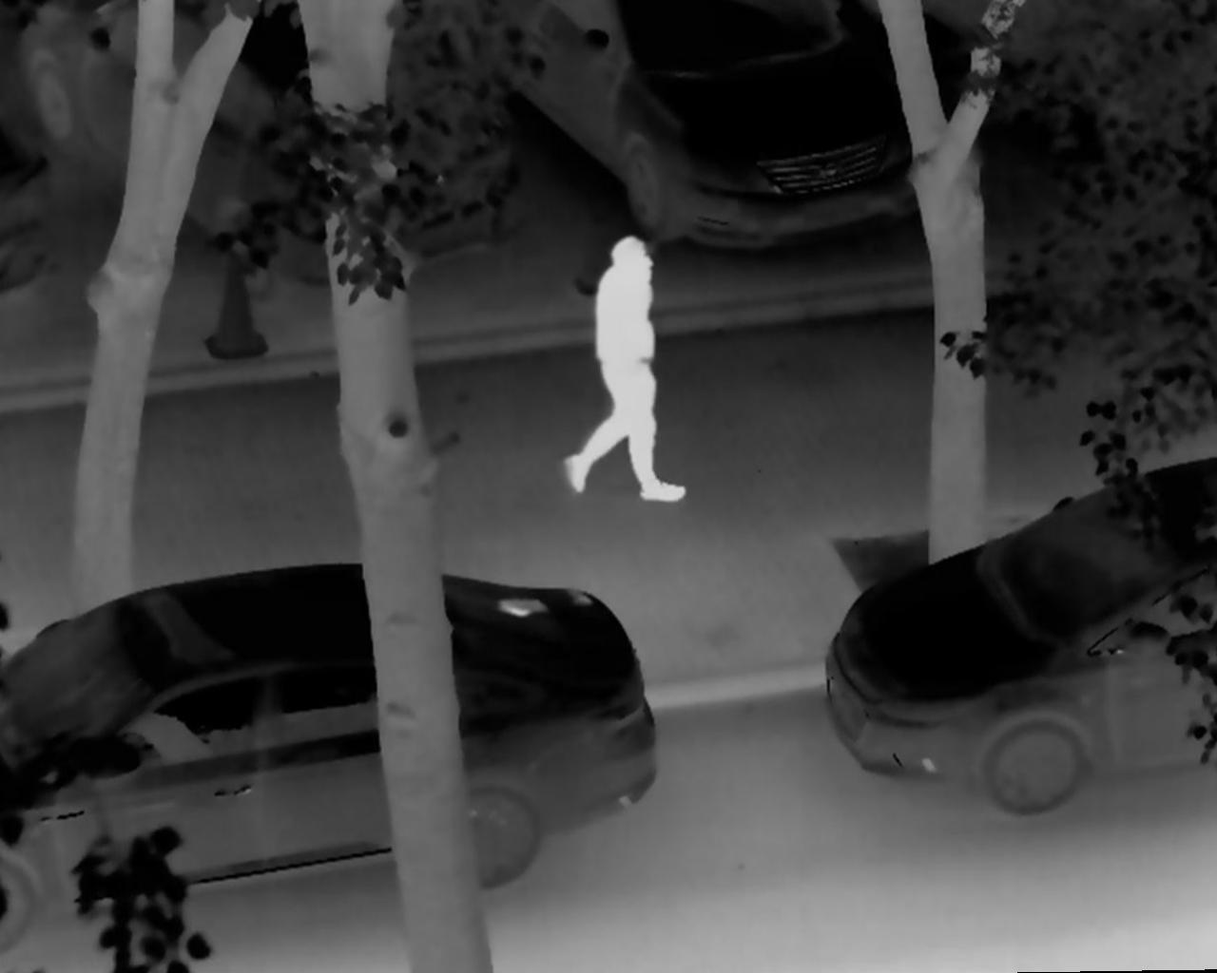person: (558, 232, 691, 505)
